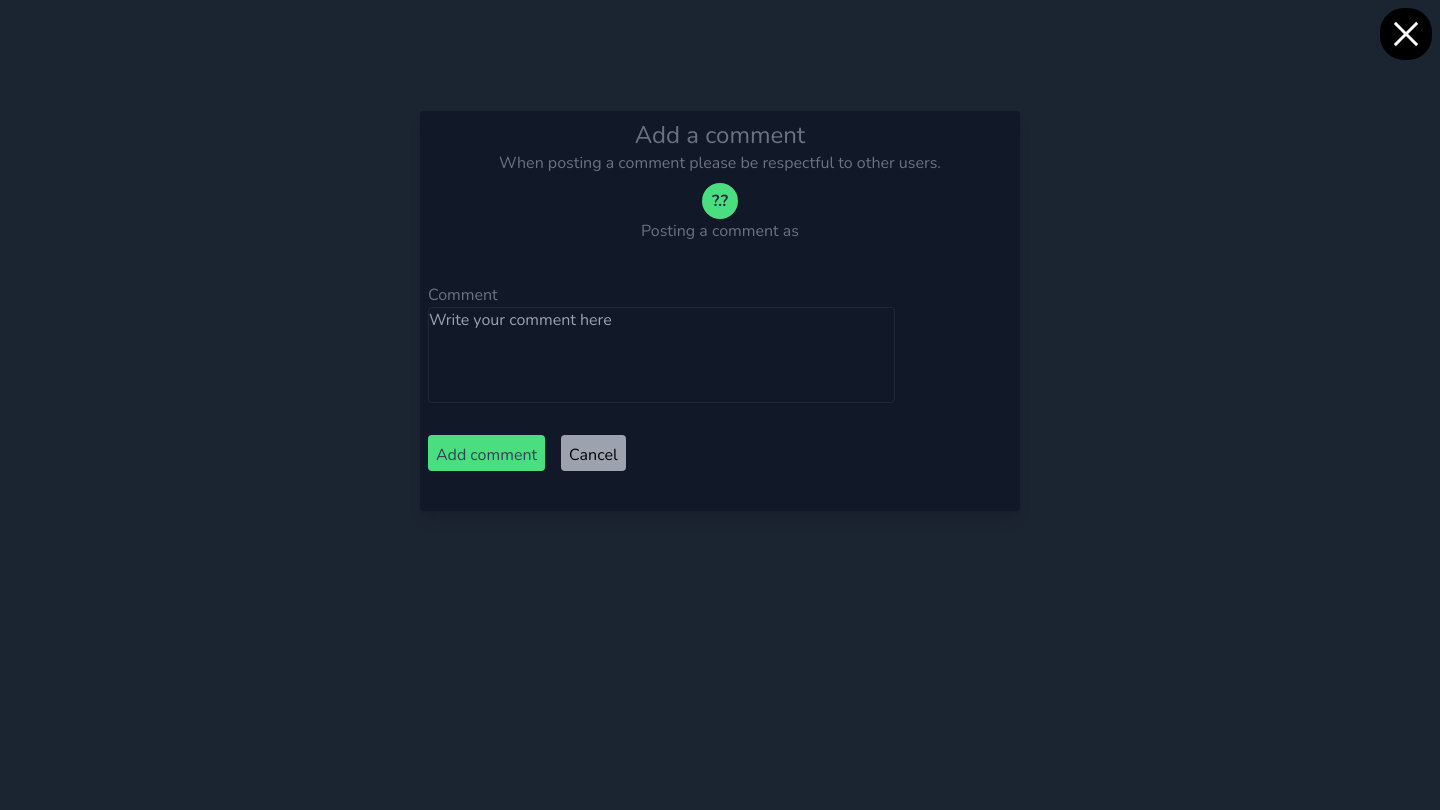
TopicDetailsCommentModalContent › should show server side validation errors
The image size is (1440, 810).
Type "This is a comment" into the text box with placeholder "Write your comment here". click: point(662, 355)
box: [428,307,895,403]
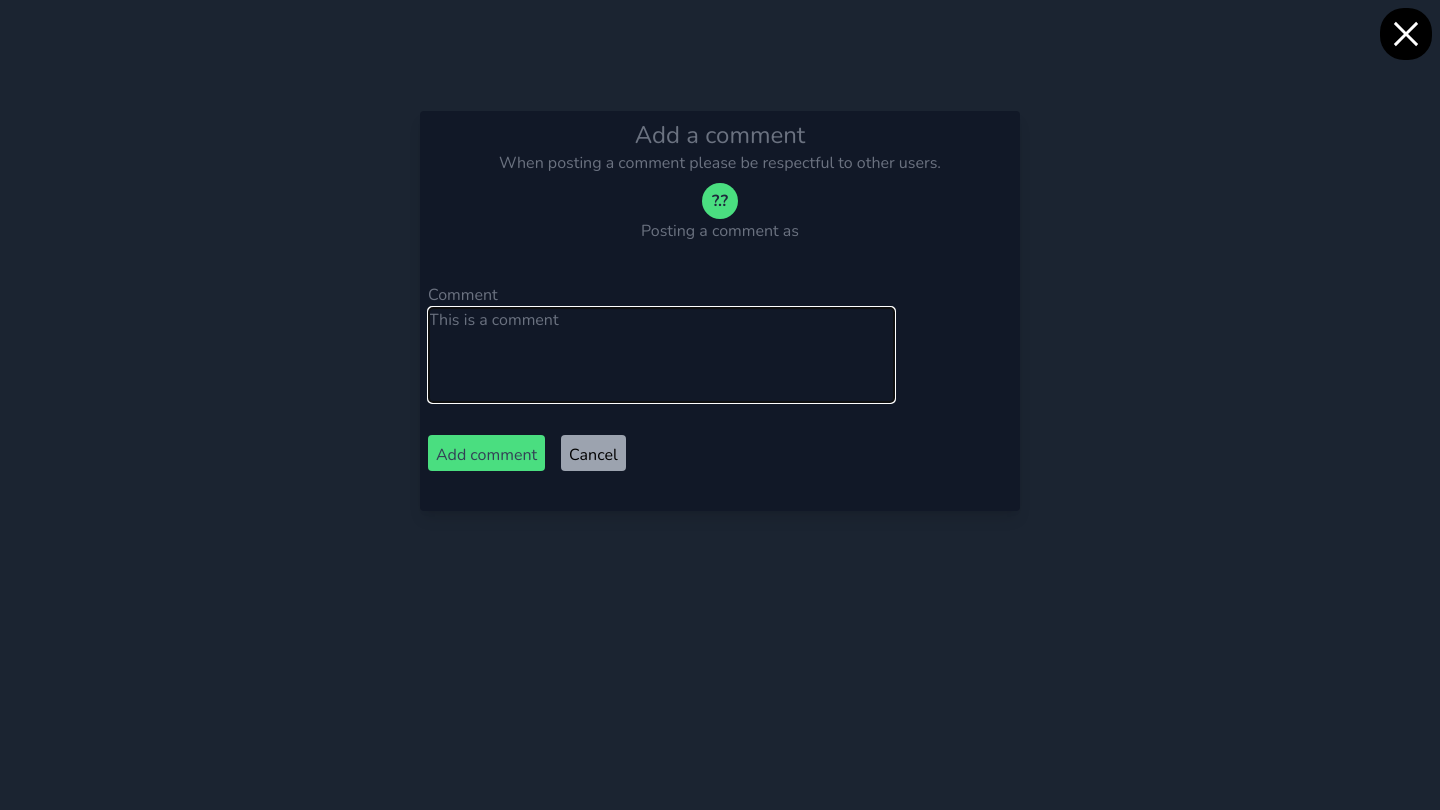
Click the button "Add comment". click: point(487, 453)
box: [428,435,545,471]
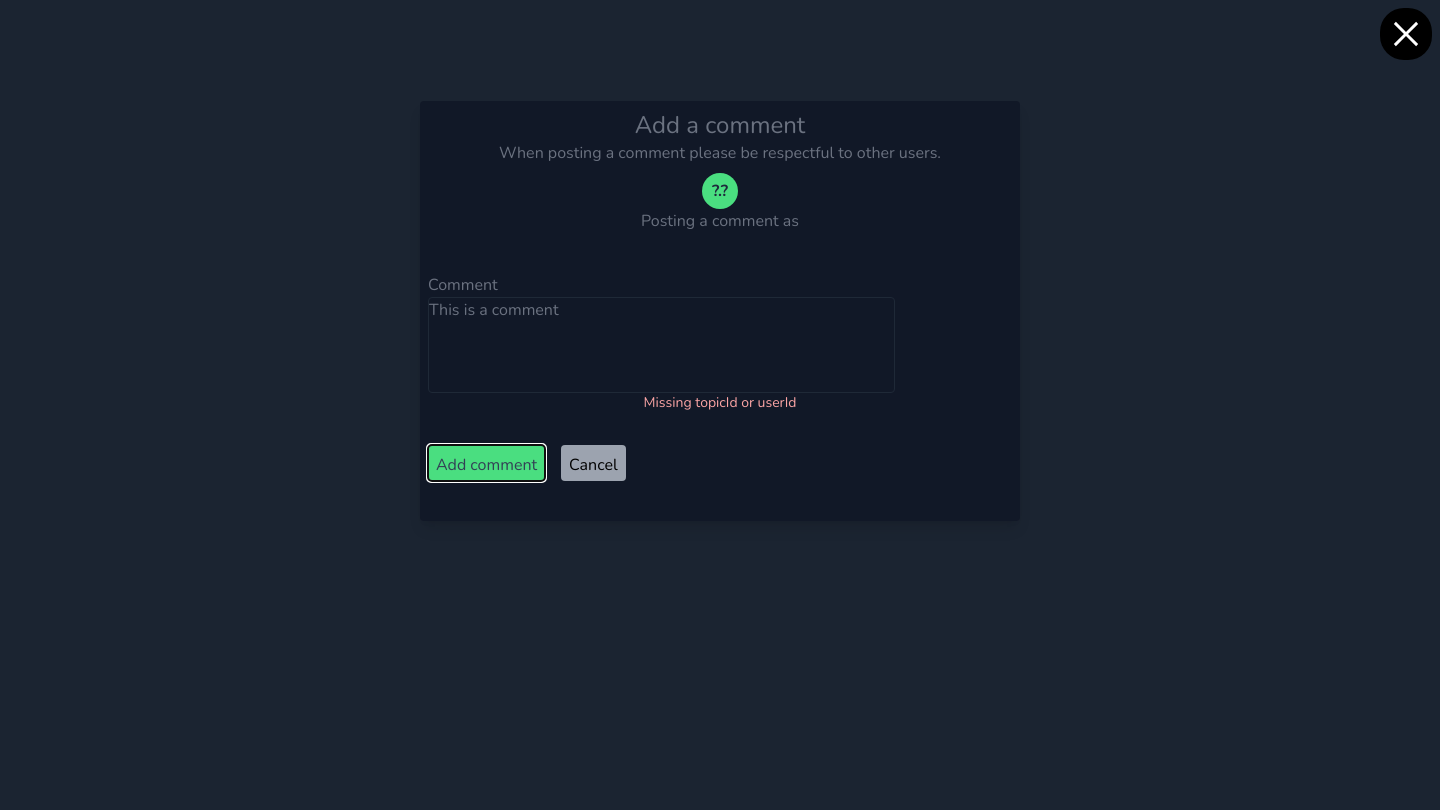
Check: the text "Missing topicId or userId" is shown, box [644,393,796,413]
